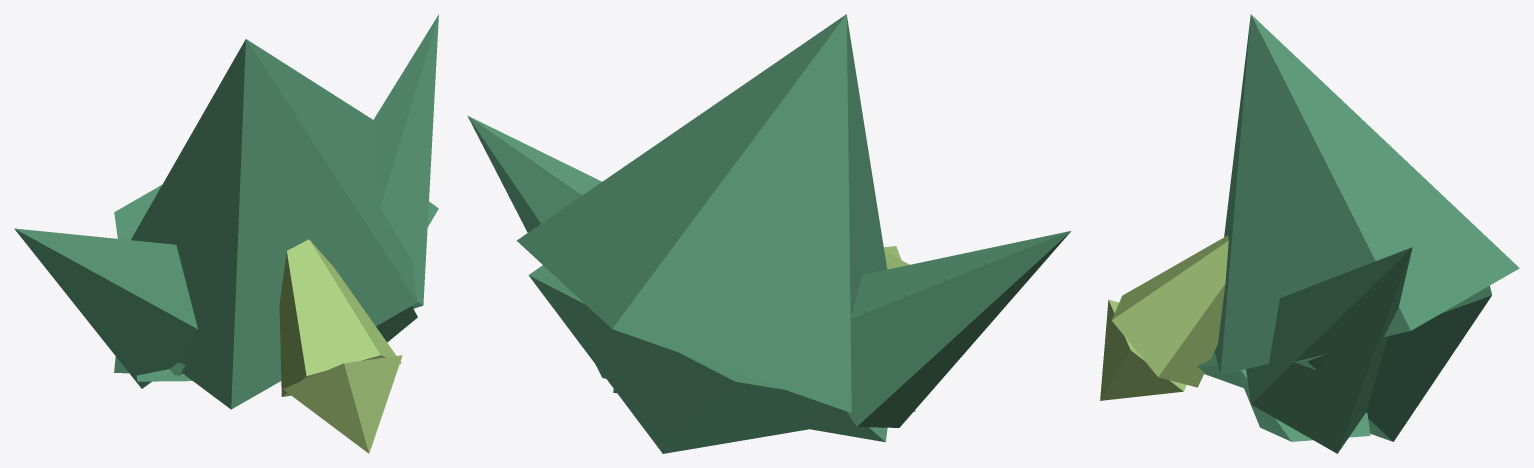
File: FSA_ITEM_VileCore.glb
The picture shows the model from 3 angles, left to right: view 1: azimuth 30°, elevation 25°; view 2: azimuth 150°, elevation 25°; view 3: azimuth 270°, elevation 25°; orthographic projection. The views are drawn at different scales.
Parts seen in each view (by area): view 1: VileHeart_Crown, VileLeft_Crown, VileRight_Crown, VileFront_Crown, VileFront_Root, VileHeart_Root, VileRight_Root; view 2: VileHeart_Crown, VileLeft_Crown, VileHeart_Root, VileRight_Crown, VileLeft_Root; view 3: VileHeart_Crown, VileRight_Crown, VileFront_Crown, VileHeart_Root, VileFront_Root, VileRight_Root.
Part boxes in pixels (x1=…): VileHeart_Crown: x1=131, y1=39, x2=417, y2=409; VileLeft_Crown: x1=14, y1=228, x2=197, y2=388; VileRight_Crown: x1=368, y1=14, x2=438, y2=308; VileFront_Crown: x1=279, y1=239, x2=401, y2=396; VileFront_Root: x1=283, y1=355, x2=402, y2=453; VileHeart_Root: x1=114, y1=185, x2=438, y2=381; VileRight_Root: x1=376, y1=306, x2=417, y2=342; VileHeart_Crown: x1=517, y1=14, x2=887, y2=412; VileLeft_Crown: x1=846, y1=231, x2=1070, y2=427; VileHeart_Root: x1=528, y1=265, x2=915, y2=453; VileRight_Crown: x1=467, y1=115, x2=605, y2=378; VileLeft_Root: x1=796, y1=403, x2=887, y2=442; VileHeart_Crown: x1=1214, y1=14, x2=1519, y2=374; VileRight_Crown: x1=1246, y1=247, x2=1412, y2=453; VileFront_Crown: x1=1111, y1=235, x2=1228, y2=387; VileHeart_Root: x1=1197, y1=285, x2=1491, y2=441; VileFront_Root: x1=1100, y1=299, x2=1186, y2=400; VileRight_Root: x1=1237, y1=369, x2=1370, y2=441.
Bounding box in the file's own units: 0.2039 × 0.1512 × 0.1515.
